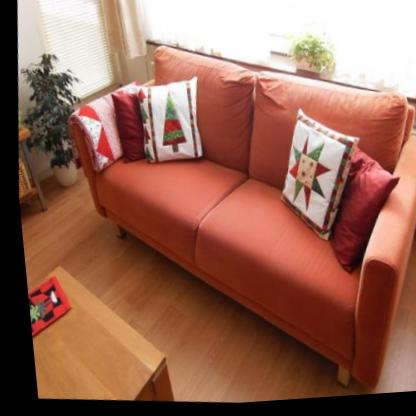Sofa: (39, 21, 416, 414)
Wooden floor: (77, 267, 329, 406)
